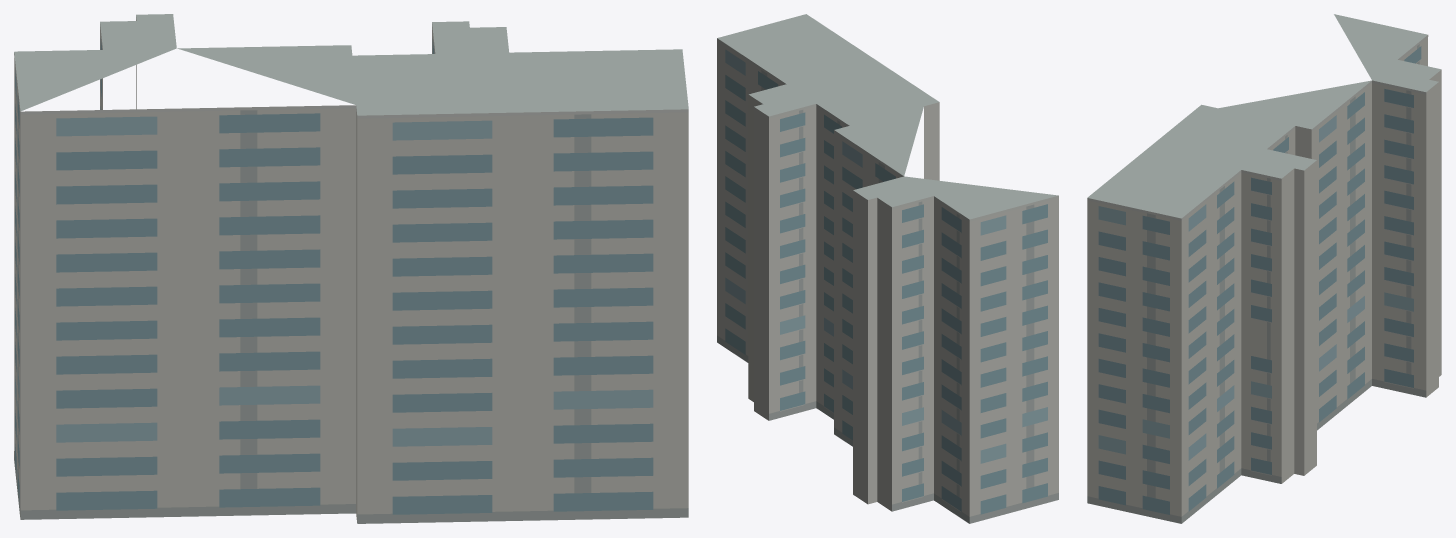
The model's file is residential-2a8af6b1-b7ce-45c7-a69b-1493b3a105f2.glb.
3 views of the same model, side by side, from view 1: azimuth 30°, elevation 25°; view 2: azimuth 150°, elevation 25°; view 3: azimuth 270°, elevation 25° (orthographic). The views are drawn at different scales.
Parts seen in each view (by area): view 1: residential-2a8af6b1-b7ce-45c7-a69b-1493b3a105f2.tmp; view 2: residential-2a8af6b1-b7ce-45c7-a69b-1493b3a105f2.tmp; view 3: residential-2a8af6b1-b7ce-45c7-a69b-1493b3a105f2.tmp.
Boxes of the visible parts, x1,y1,x2,y2 form: residential-2a8af6b1-b7ce-45c7-a69b-1493b3a105f2.tmp: [14, 14, 688, 523]; residential-2a8af6b1-b7ce-45c7-a69b-1493b3a105f2.tmp: [717, 14, 1058, 523]; residential-2a8af6b1-b7ce-45c7-a69b-1493b3a105f2.tmp: [1087, 14, 1441, 523].
Bounding box in the file's own units: 45.97 × 32 × 33.68.
